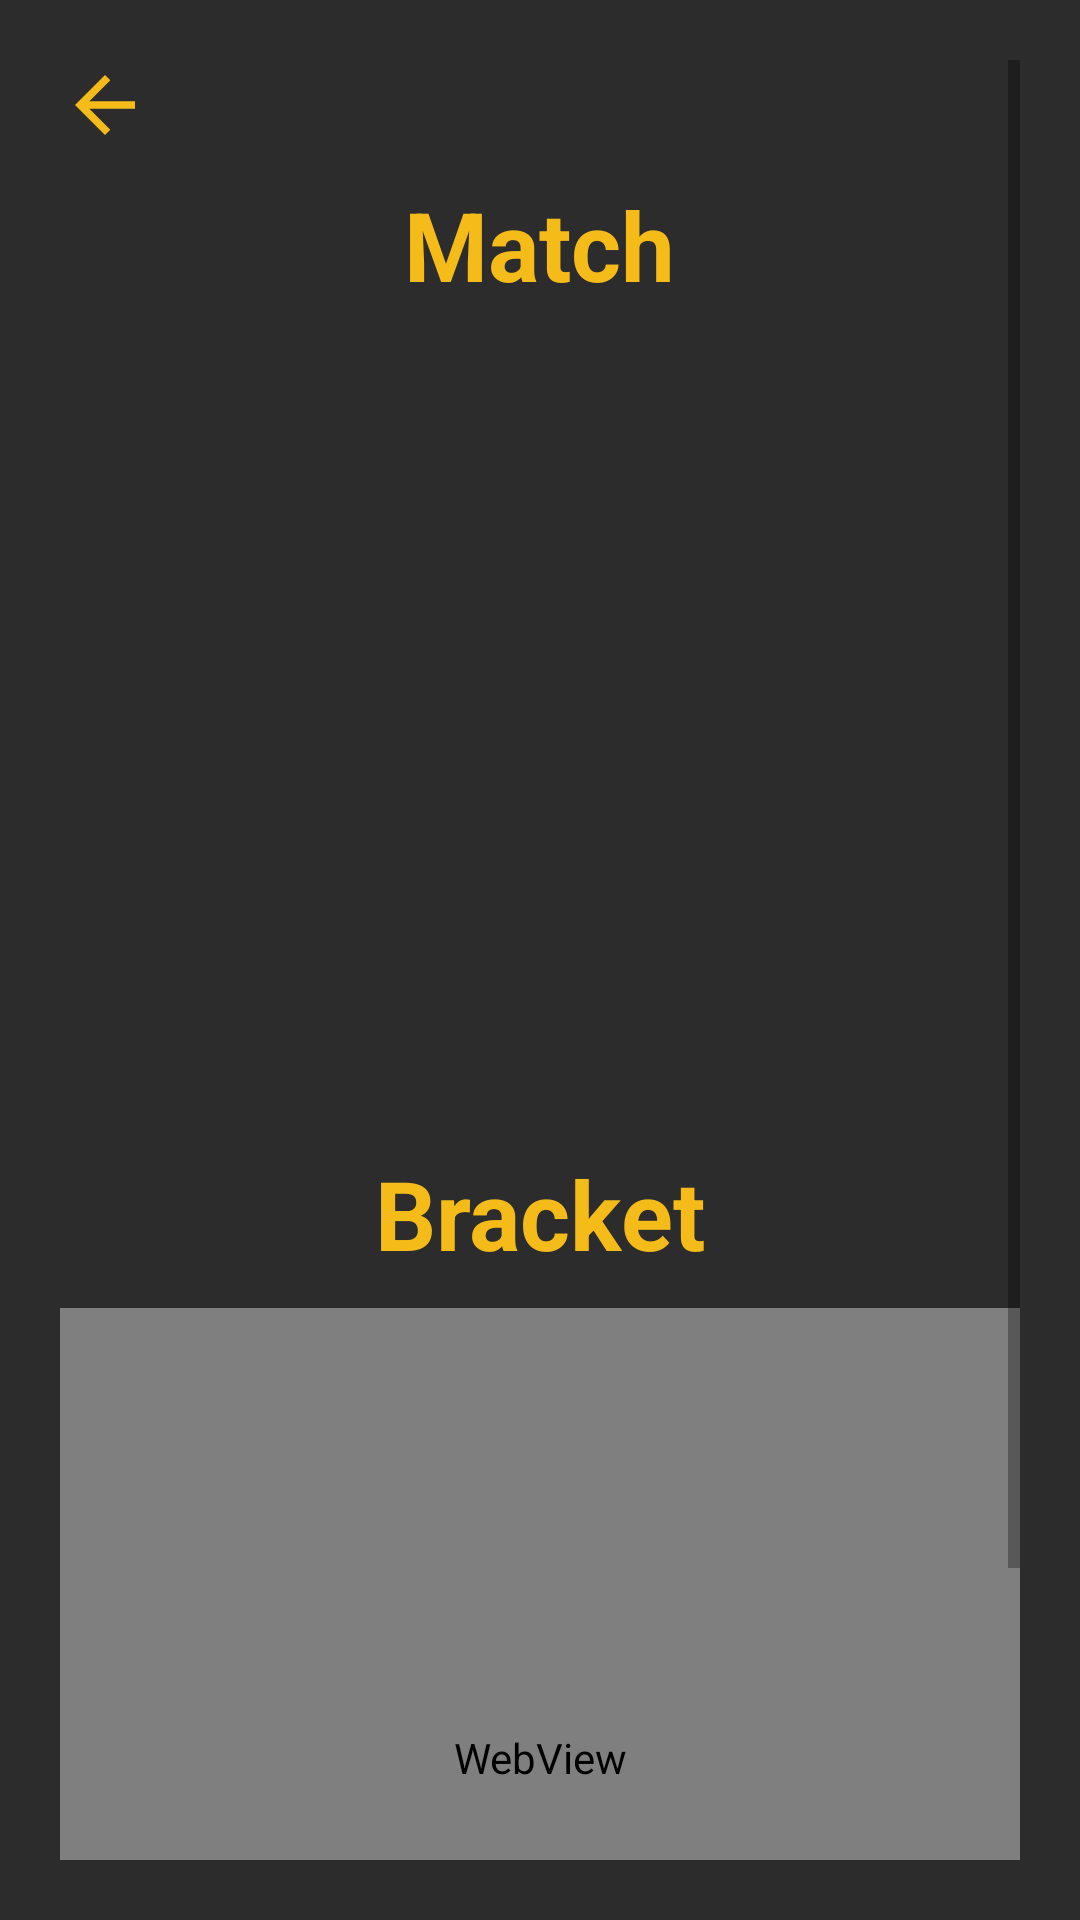

Screen size 1080 x 1920. Icon name, then its center in pixels as (x=x, y=y):
arrow back: (x=105, y=105)
